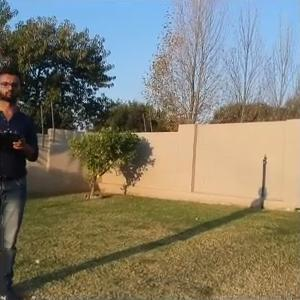follow: (0, 56, 43, 294)
